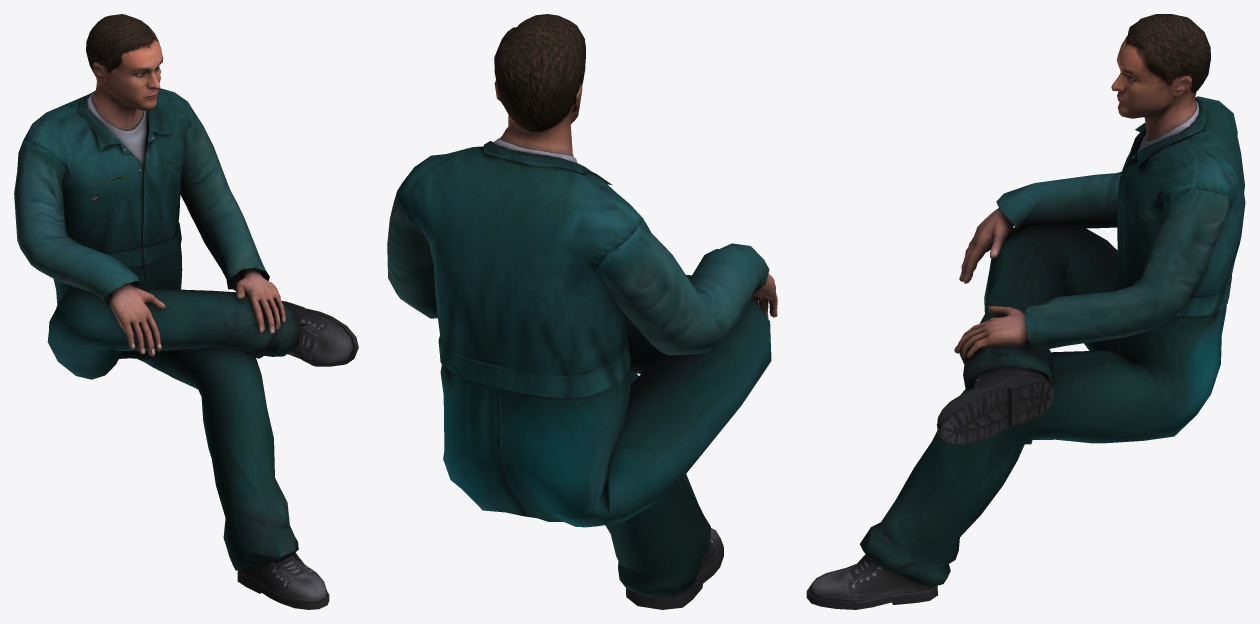
File: SWRK01_03_02.FBX
3 renders of one model, left to right at view 1: azimuth 30°, elevation 25°; view 2: azimuth 150°, elevation 25°; view 3: azimuth 270°, elevation 25°, orthographic. The views are drawn at different scales.
Parts seen in each view (by area): view 1: SWRK01_03_02; view 2: SWRK01_03_02; view 3: SWRK01_03_02.
Part boxes in pixels (bbox=[...]): SWRK01_03_02: bbox=[14, 14, 358, 609]; SWRK01_03_02: bbox=[387, 14, 777, 609]; SWRK01_03_02: bbox=[806, 14, 1245, 609].
Bounding box in the file's own units: 29.05 × 54.77 × 38.96.
1 material, 1 textured.
